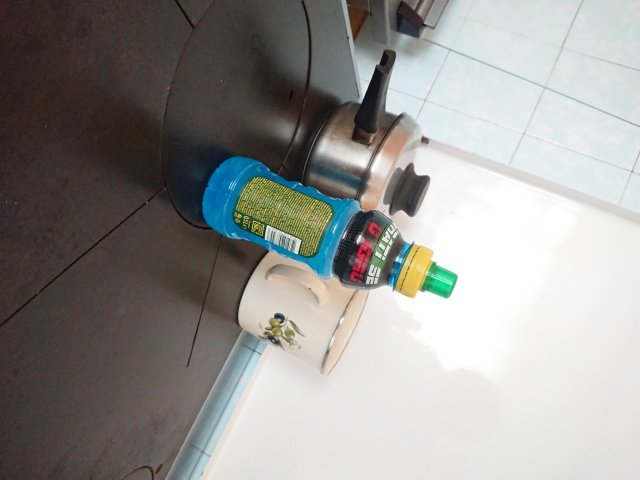Vindi Iso Sport Forest Strawberries 500mL: (200, 153, 460, 300)
